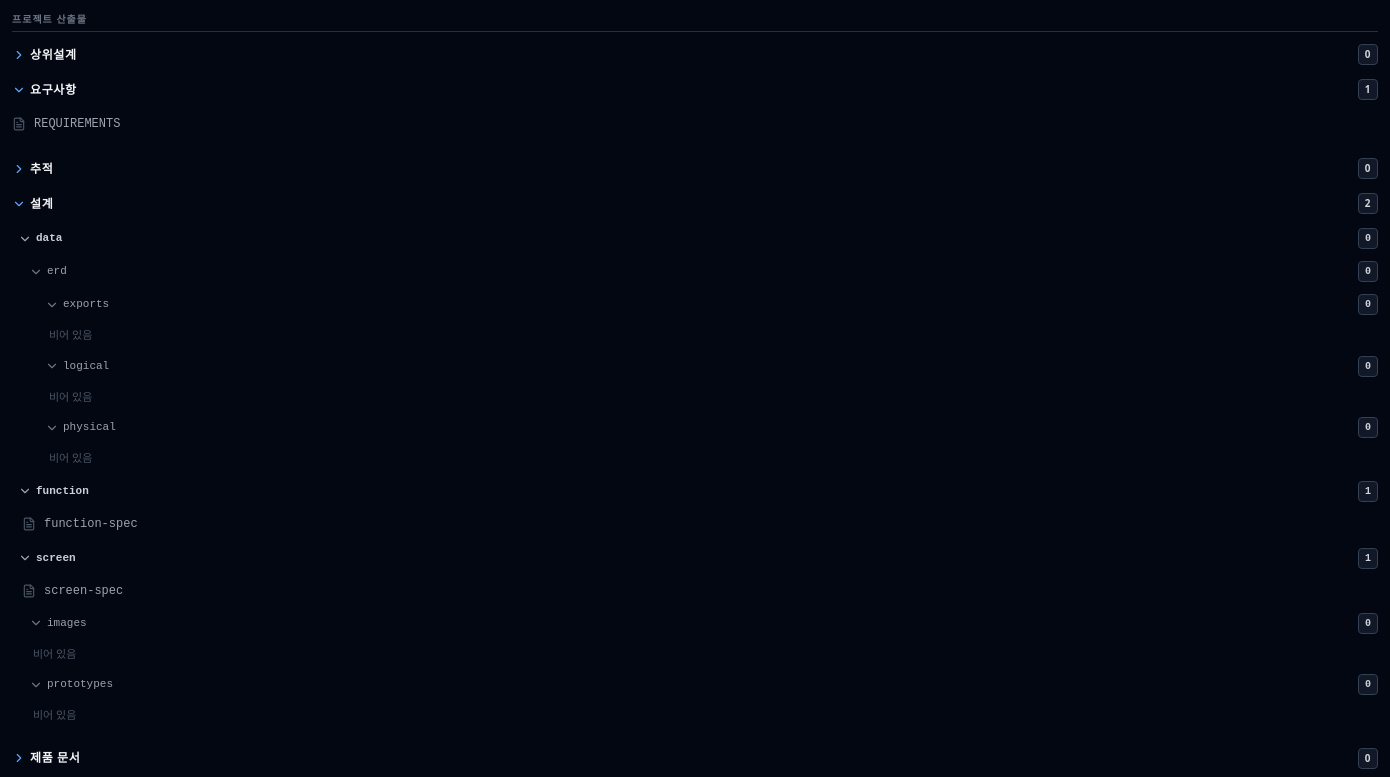
Scenario: DocList › 카테고리 토글 버튼 두 번 클릭 시 문서 목록이 다시 펼쳐진다
Click the button with test id "doc-category-toggle-requirements" at (53, 89), box [12,75,1378,104]
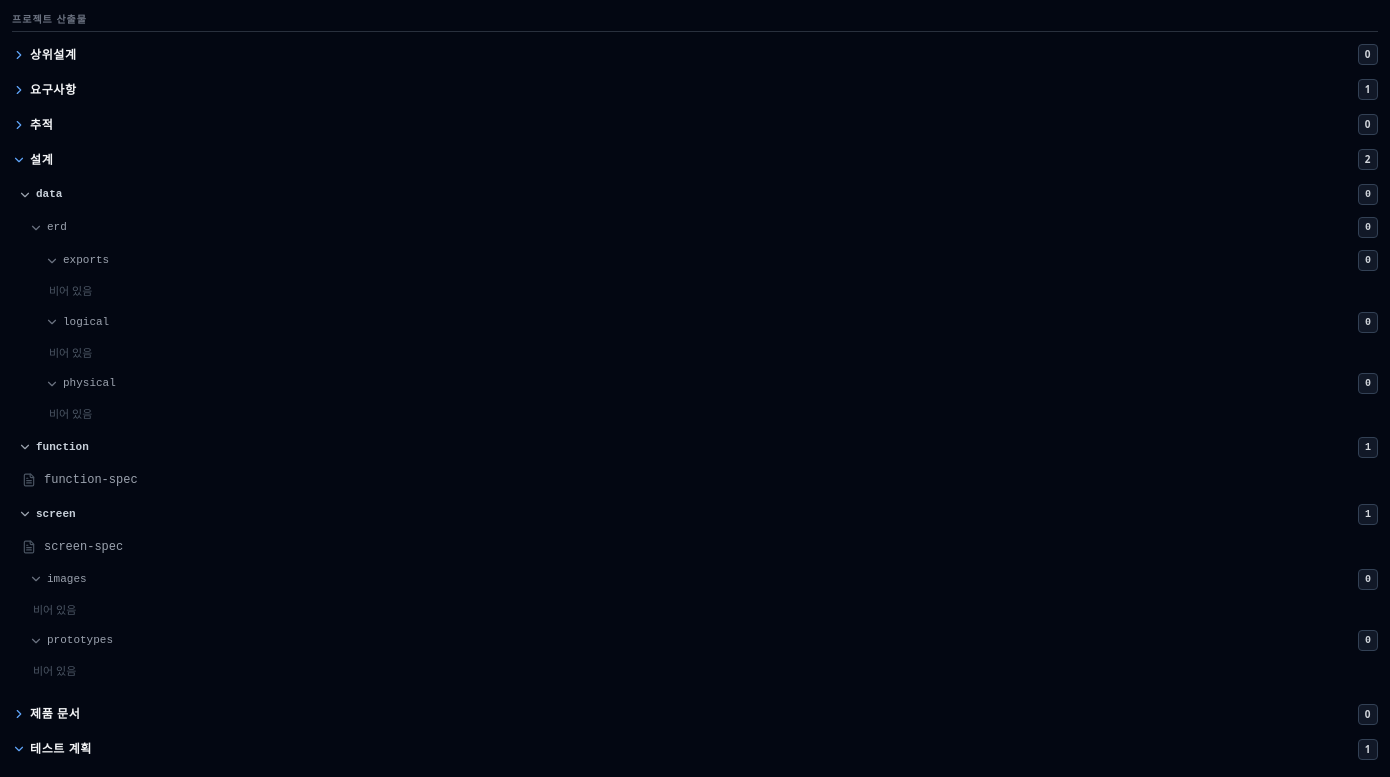
Now the text "REQUIREMENTS" is gone
Click the button with test id "doc-category-toggle-requirements" at (53, 89), box [12,75,1378,104]
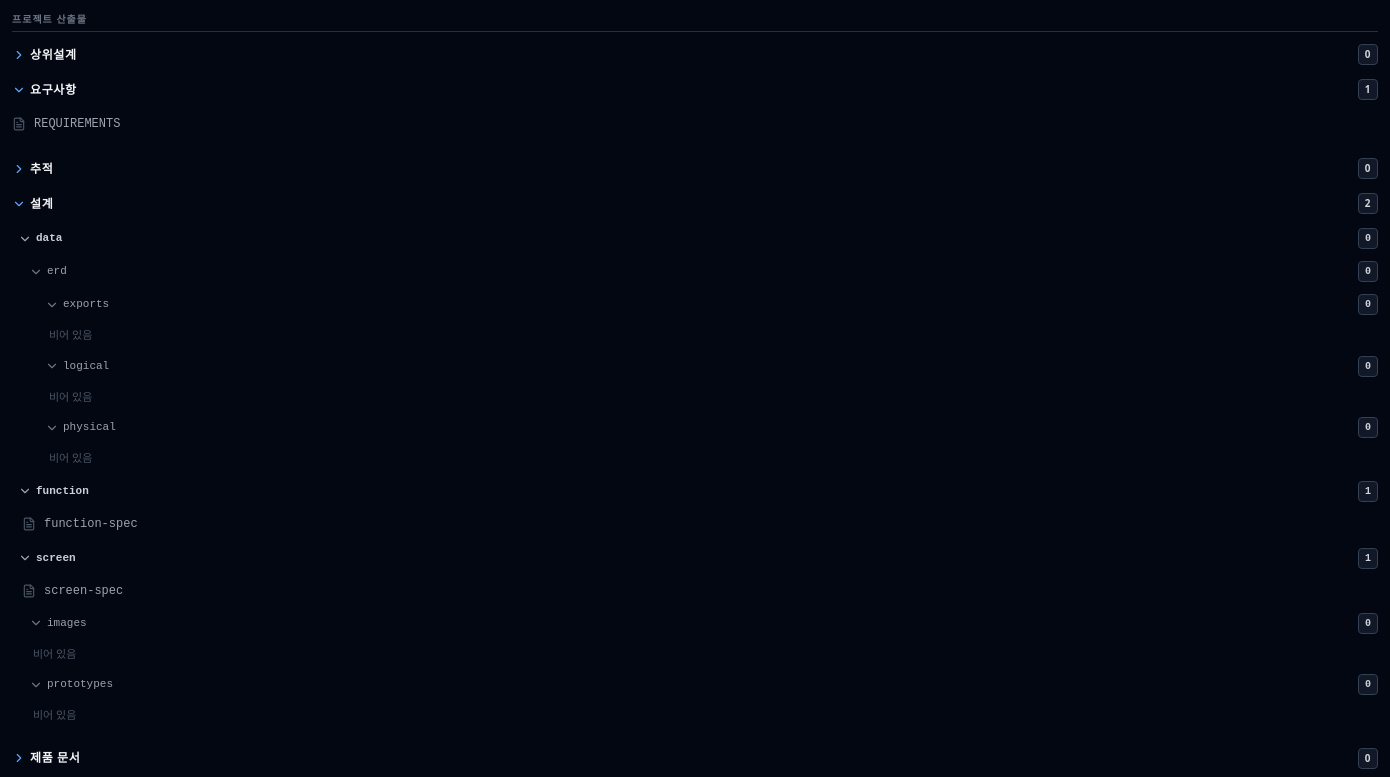
Now the text "REQUIREMENTS" is shown, box [34,117,120,131]
